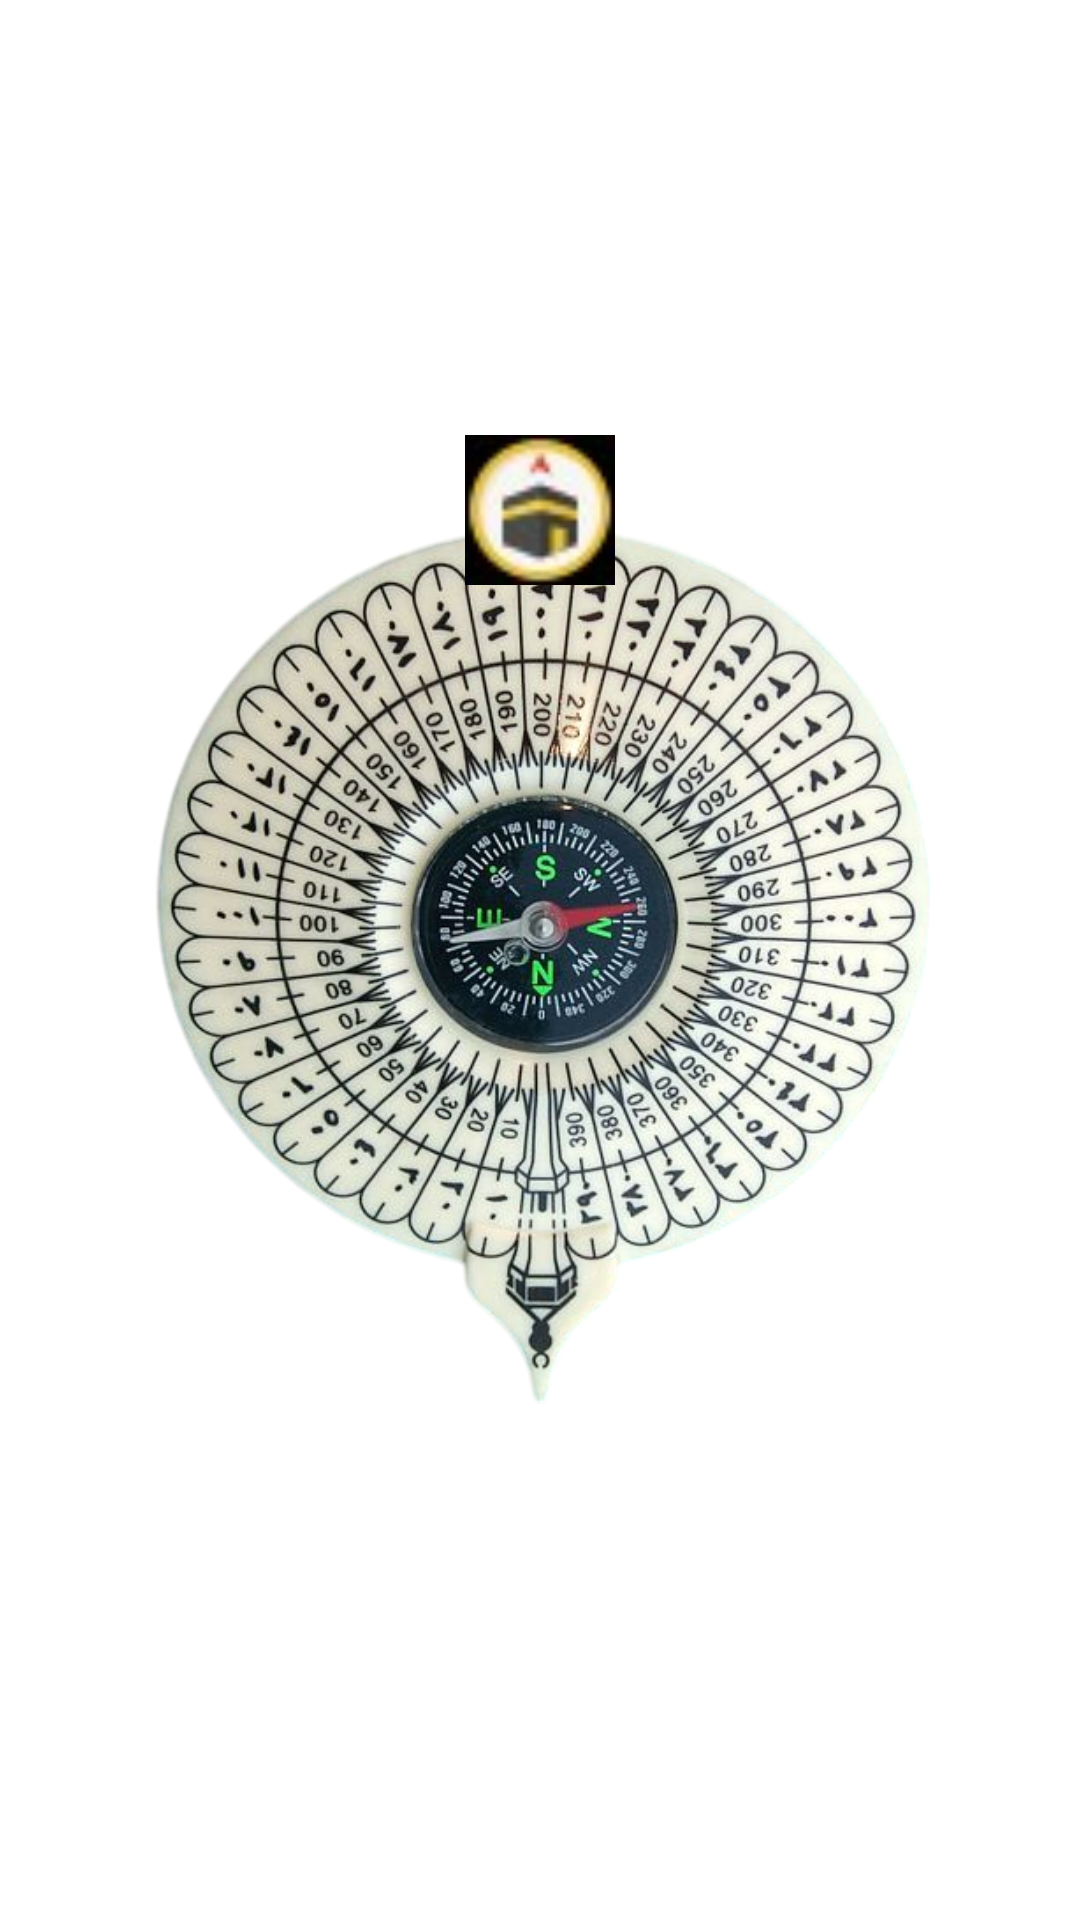

Icon click points for this 1080*1920 phone screenshot, format point (x, y):
kabe: point (540, 510)
